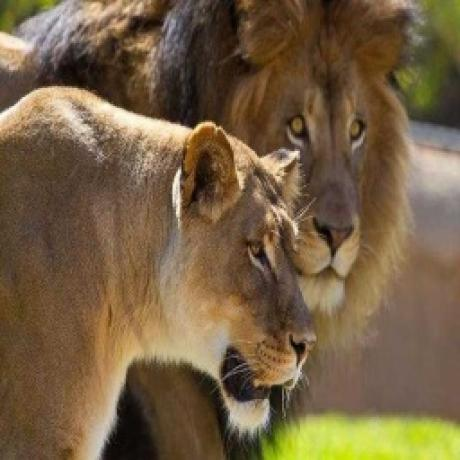Lion: (0, 0, 430, 326), (0, 82, 316, 460)
